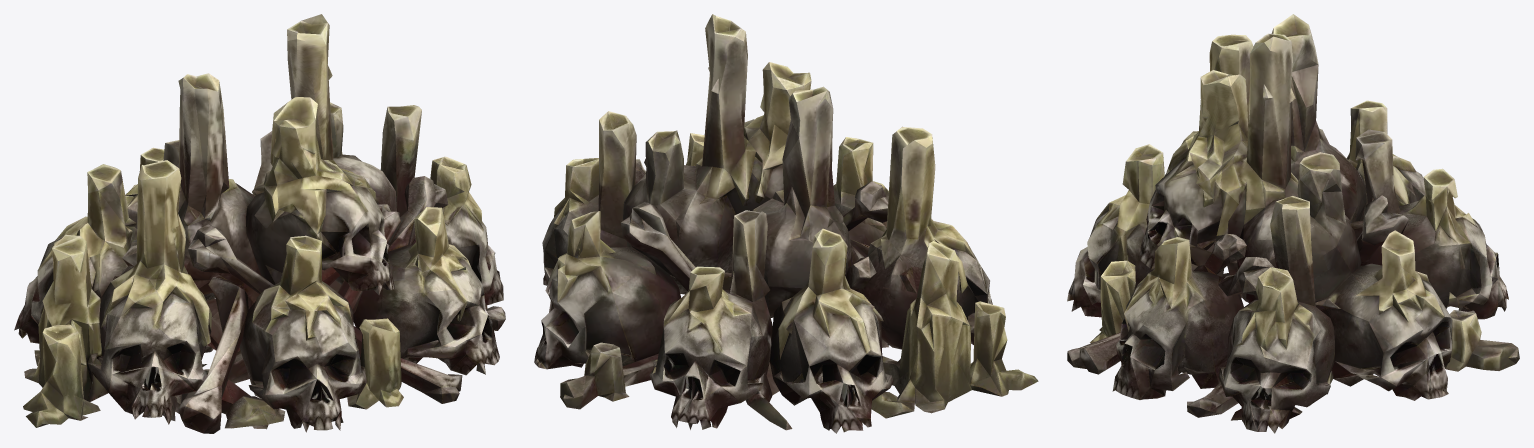
The model's file is prop_candles.glb.
3 views of the same model, side by side, from view 1: azimuth 30°, elevation 25°; view 2: azimuth 150°, elevation 25°; view 3: azimuth 270°, elevation 25° (orthographic). The views are drawn at different scales.
Parts seen in each view (by area): view 1: Candles; view 2: Candles; view 3: Candles.
Part boxes in pixels (left/top/right/bottom): Candles: left=14, top=14, right=505, bottom=433; Candles: left=534, top=14, right=1038, bottom=433; Candles: left=1067, top=14, right=1519, bottom=433.
Size of the model in its own units: 0.9 by 0.5707 by 0.7395.
Materials: 1 (1 with a texture image).
